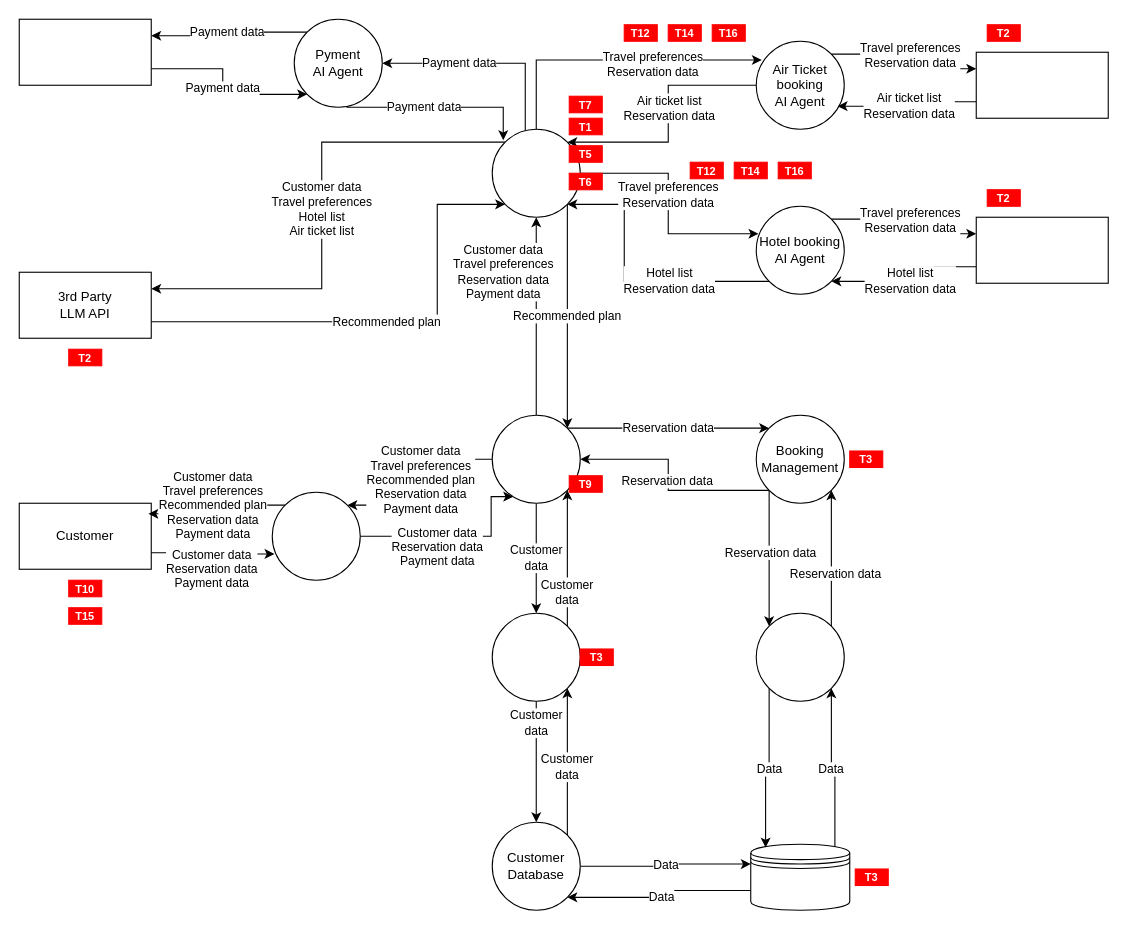
Image size: 1128x930. Some labels were removed from this diagram. The centre of each missing label's shape, as x and y in pixels:
3rd Party Air Ticket Booking API: the point at 1041,84
3rd Party Hotel Booking API: the point at 1041,249
3rd Party Payment API: the point at 84,51
AITravelApp Front-end: the point at 315,535
API GateWay: the point at 535,458
Booking Database: the point at 799,656
Customer Management (Include Auth): the point at 535,656
Database Files: the point at 800,876
Travel Planning AI Agent: the point at 535,172
